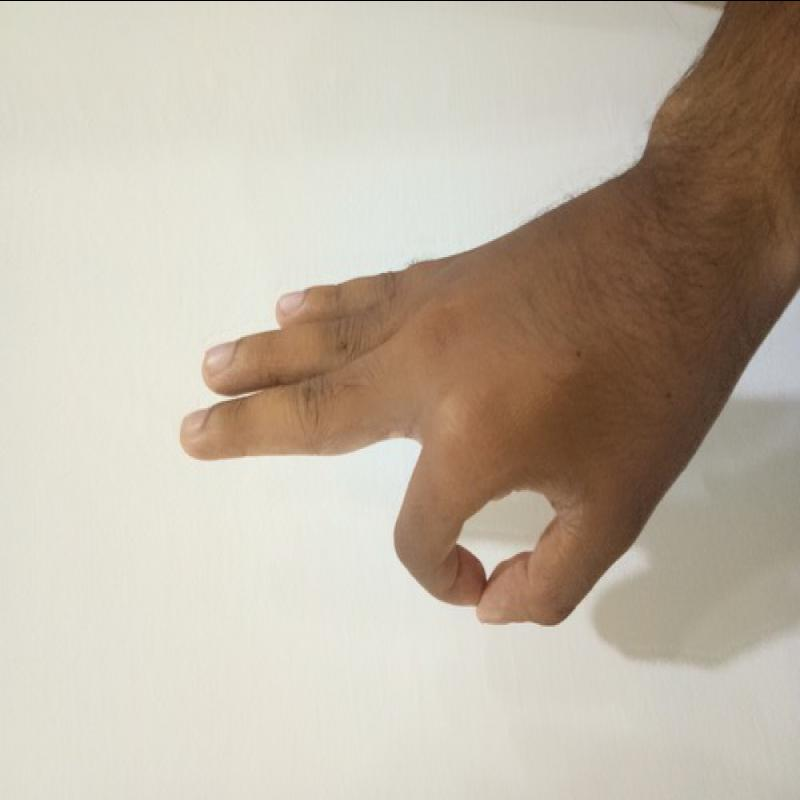Mudraakhyam: (167, 151, 673, 693)
